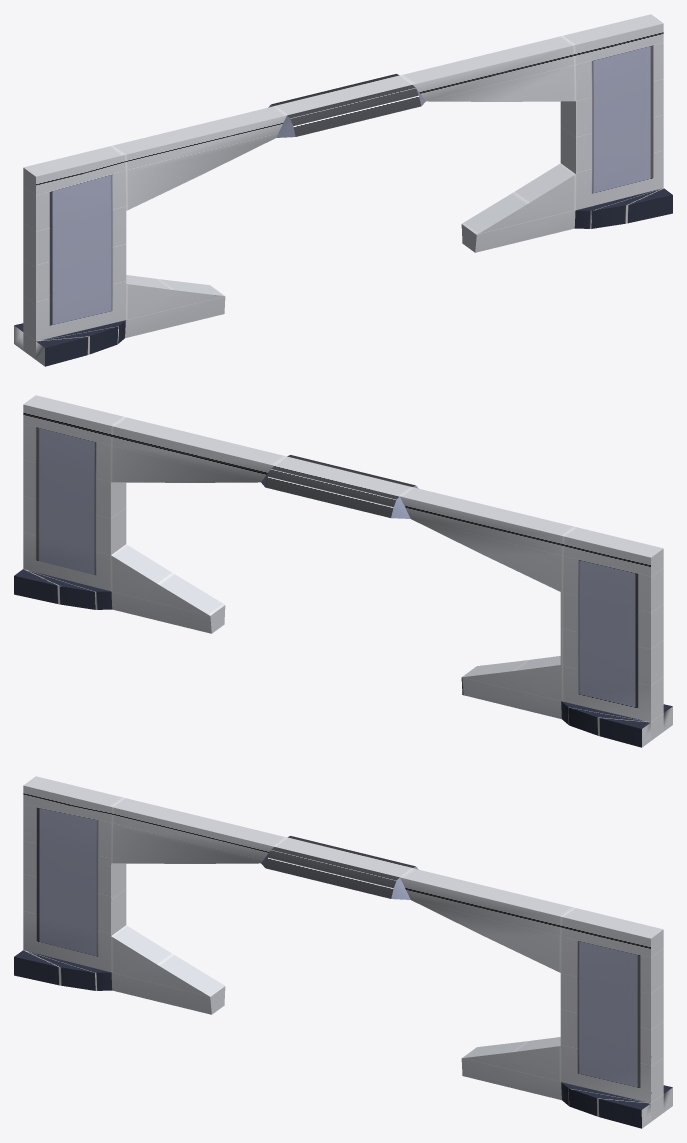
The model's file is arch.FBX.
3 renders of one model, top to bottom at view 1: azimuth 30°, elevation 25°; view 2: azimuth 150°, elevation 25°; view 3: azimuth 330°, elevation 25°, orthographic.
Parts seen in each view (by area): view 1: Box001; view 2: Box001; view 3: Box001.
Boxes of the visible parts, x1,y1,x2,y2 form: Box001: (14,14,672,366); Box001: (14,395,672,747); Box001: (14,776,672,1128).
Size of the model in its own units: 28.08 by 2.41 by 7.83.
1 material, 1 textured.
